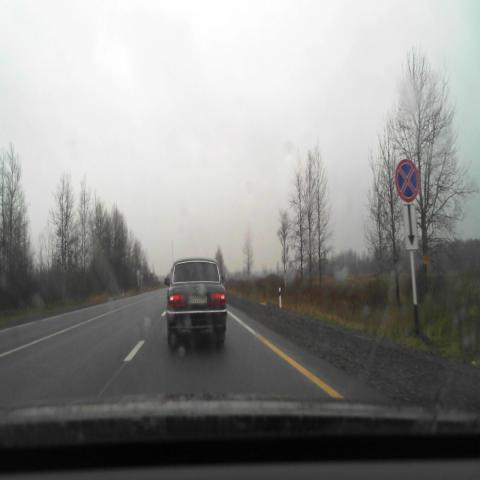8_2_3: (402, 204, 419, 250)
